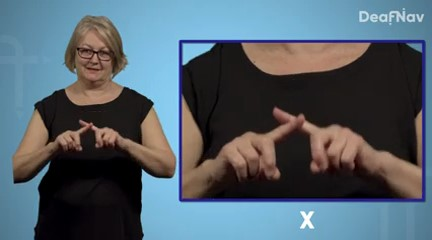X: (49, 113, 126, 157)
